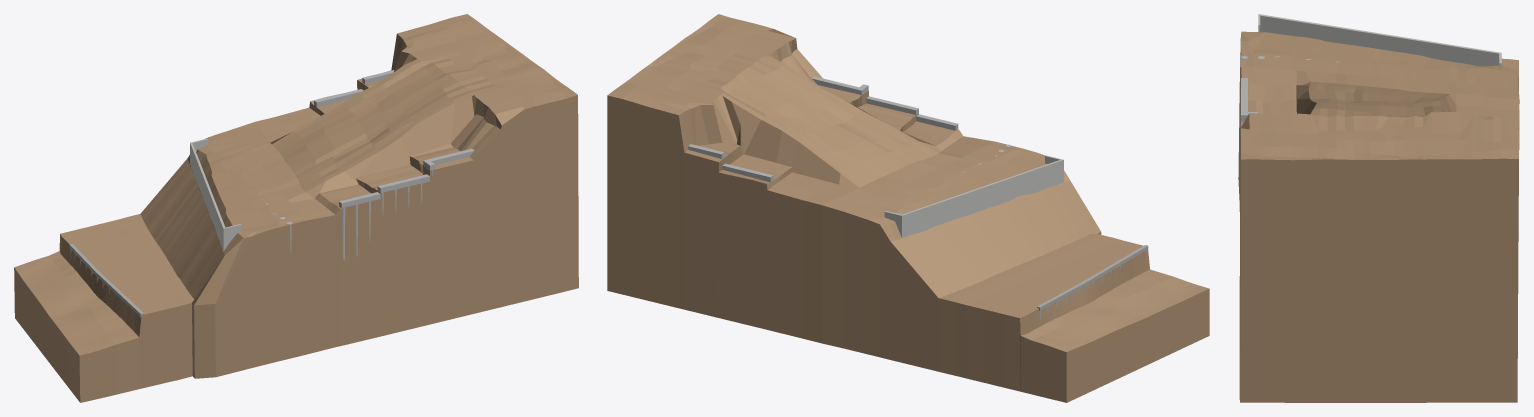
File: cb1_spw2_3.glb
3 renders of one model, left to right at view 1: azimuth 30°, elevation 25°; view 2: azimuth 150°, elevation 25°; view 3: azimuth 270°, elevation 25°, orthographic. The views are drawn at different scales.
Visible parts, largest first — view 1: Terrain 07 - SPW2+3.001, RTW1.002, Cube.069; view 2: Terrain 07 - SPW2+3.001, RTW1.002, Cube.069; view 3: Terrain 07 - SPW2+3.001, RTW1.002.
Part boxes in pixels (x1,y1,x2,y2): Terrain 07 - SPW2+3.001: [14, 14, 578, 402]; RTW1.002: [190, 138, 241, 251]; Cube.069: [69, 243, 144, 316]; Terrain 07 - SPW2+3.001: [607, 14, 1209, 402]; RTW1.002: [884, 155, 1063, 237]; Cube.069: [1037, 245, 1148, 310]; Terrain 07 - SPW2+3.001: [1238, 31, 1519, 402]; RTW1.002: [1258, 14, 1501, 70].
Size of the model in its own units: 45.82 by 17.24 by 17.99.
